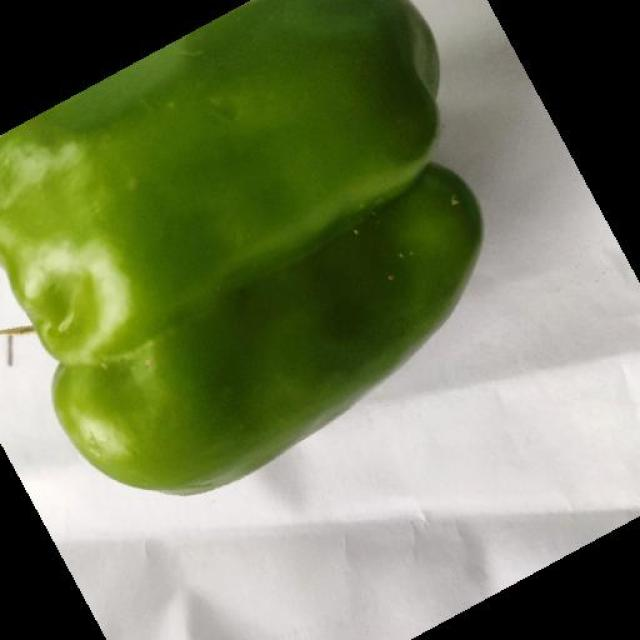Fresh_Capsicum: (0, 115, 532, 493)
